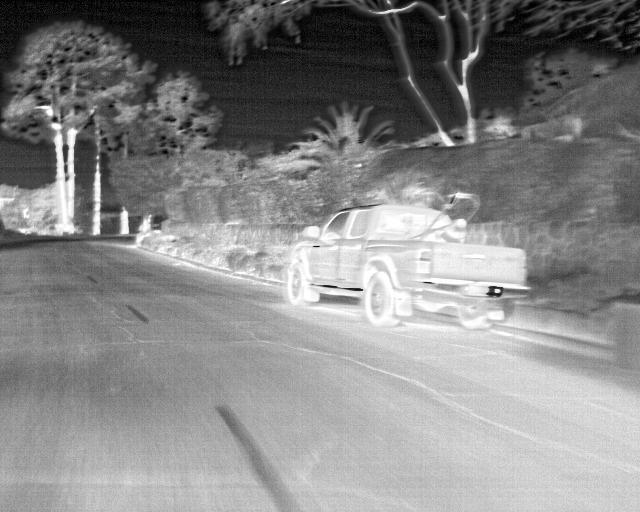car: (285, 204, 530, 330)
